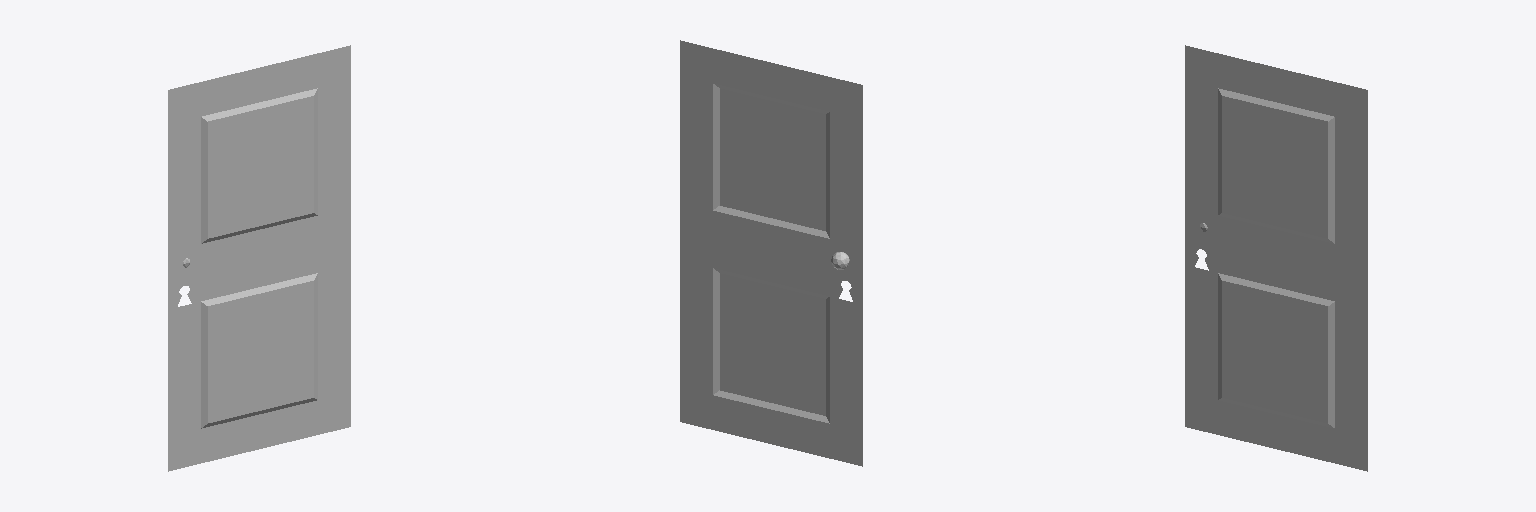
Rendered from door.obj.
The picture shows the model from 3 angles: view 1: azimuth 30°, elevation 25°; view 2: azimuth 150°, elevation 25°; view 3: azimuth 330°, elevation 25°; orthographic projection.
Parts seen in each view (by area): view 1: Cube_Cube.001; view 2: Cube_Cube.001; view 3: Cube_Cube.001.
Part boxes in pixels (x1,y1,x2,y2): Cube_Cube.001: (168, 45, 350, 471); Cube_Cube.001: (680, 40, 862, 466); Cube_Cube.001: (1185, 45, 1367, 471).
Size of the model in its own units: 2 by 4 by 0.1895.